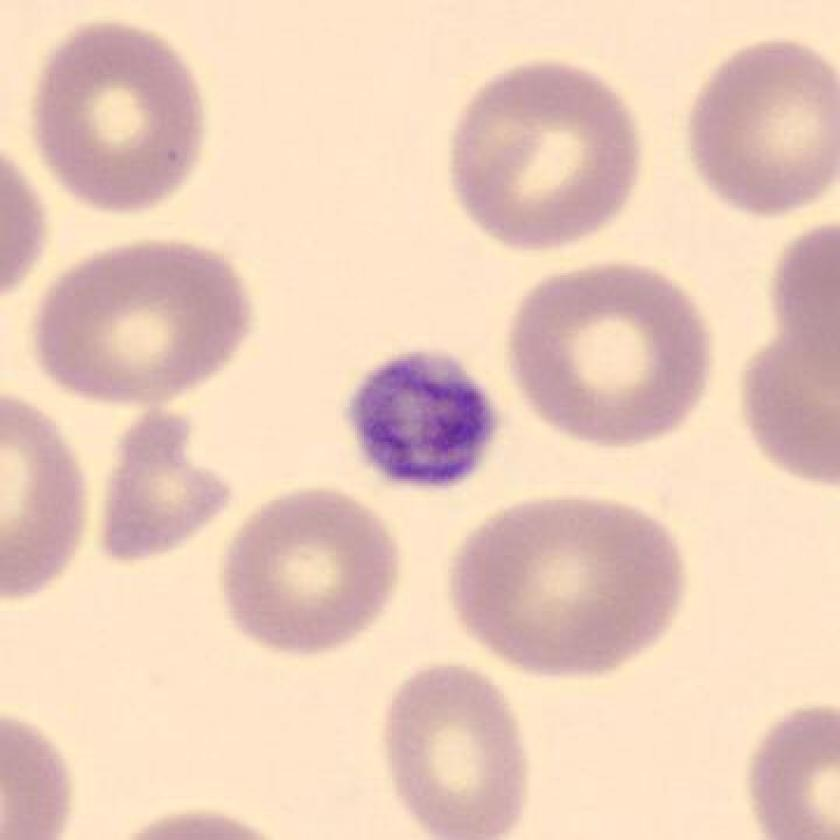platelets: (335, 334, 514, 508)
